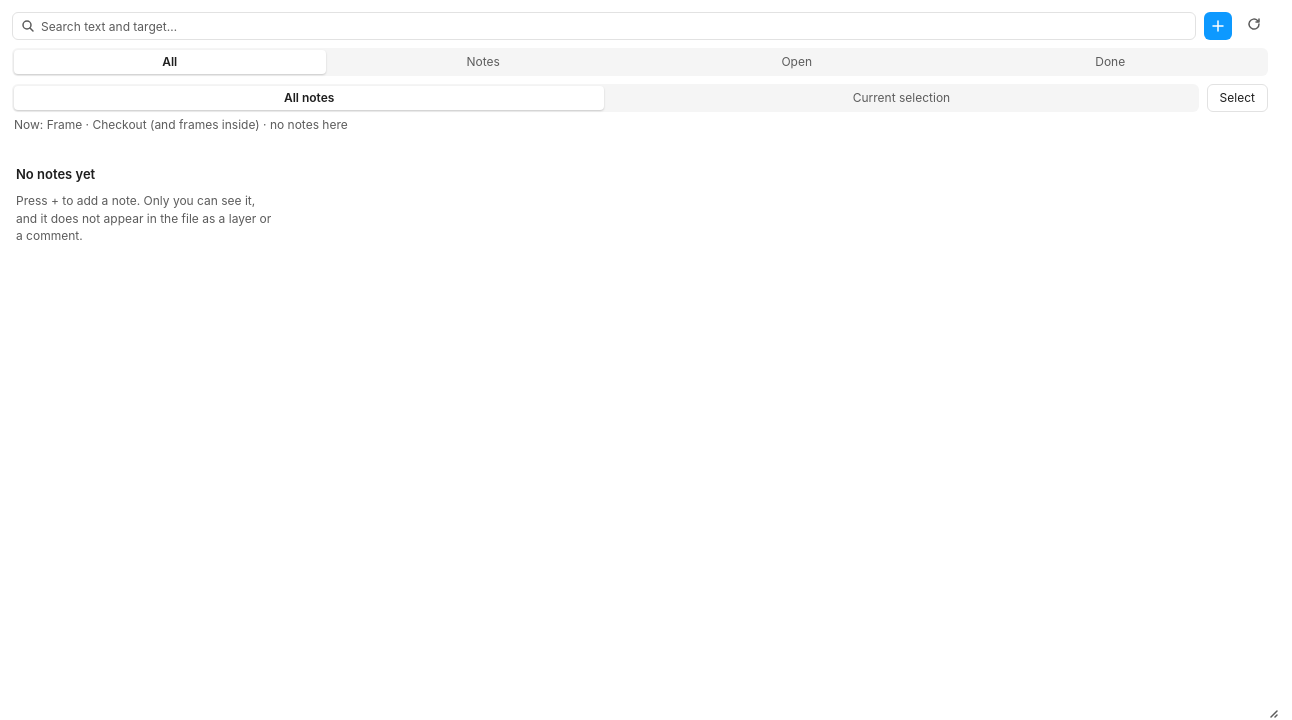
Scenario: Smart Context in the window › filters to the working frame and its nested frames on request
Check: the button named "Add note" is shown, box 1204,12 -> 1232,40
What coordinates should you click on to do the following:
click the button named "Refresh the list"
I would click on:
 (1254, 26)
Its box is 1240,12 -> 1268,40.
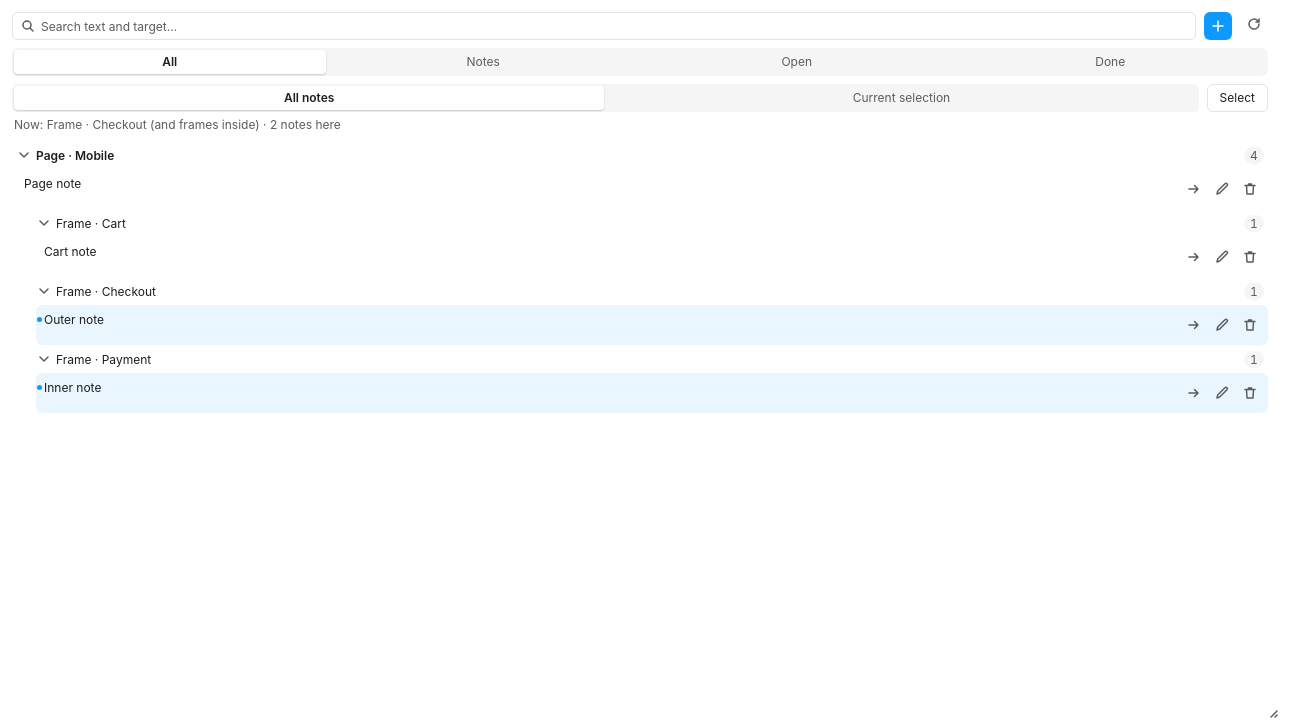
Check: the text "Outer note" is shown, box 44,312 -> 104,327
What coordinates should you click on to do the following:
click the button "Current selection"
I would click on:
 (901, 98)
Its box is 606,86 -> 1197,110.
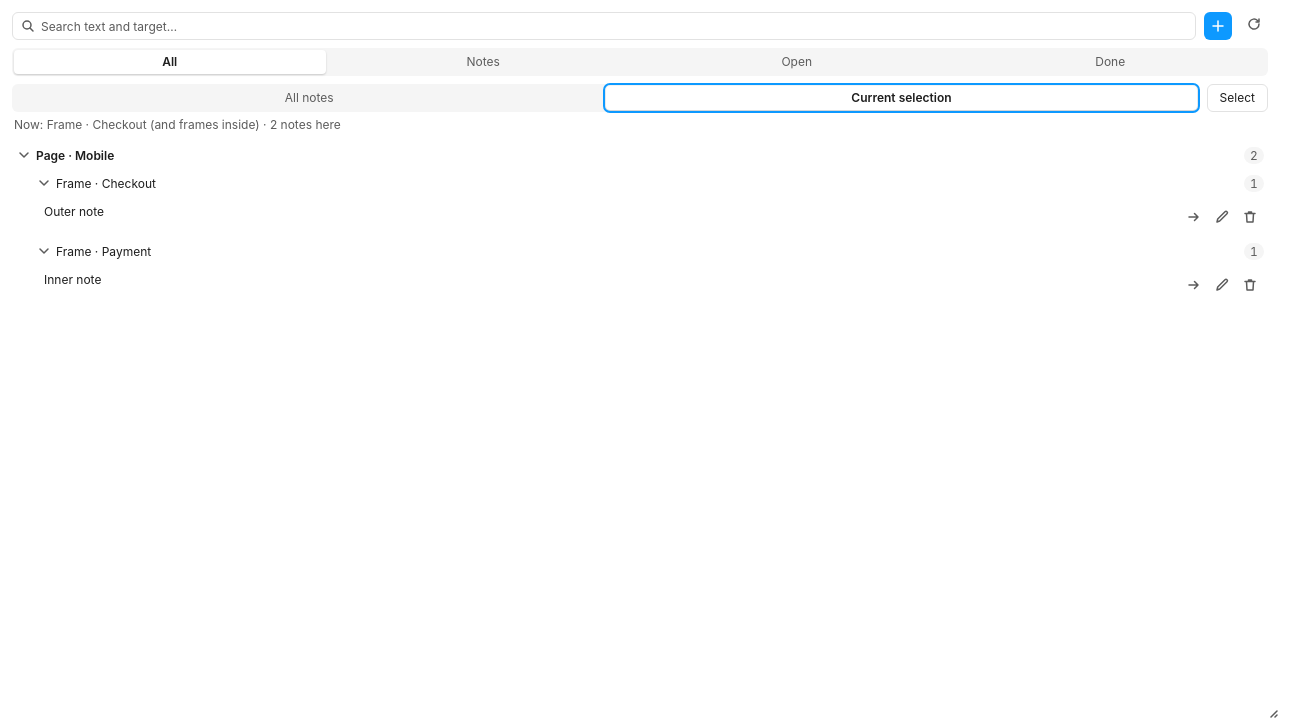
Check: the text "Outer note" is shown, box 44,204 -> 104,219
Check: the text "Inner note" is shown, box 44,272 -> 101,287
Check: the text "Cart note" is gone
